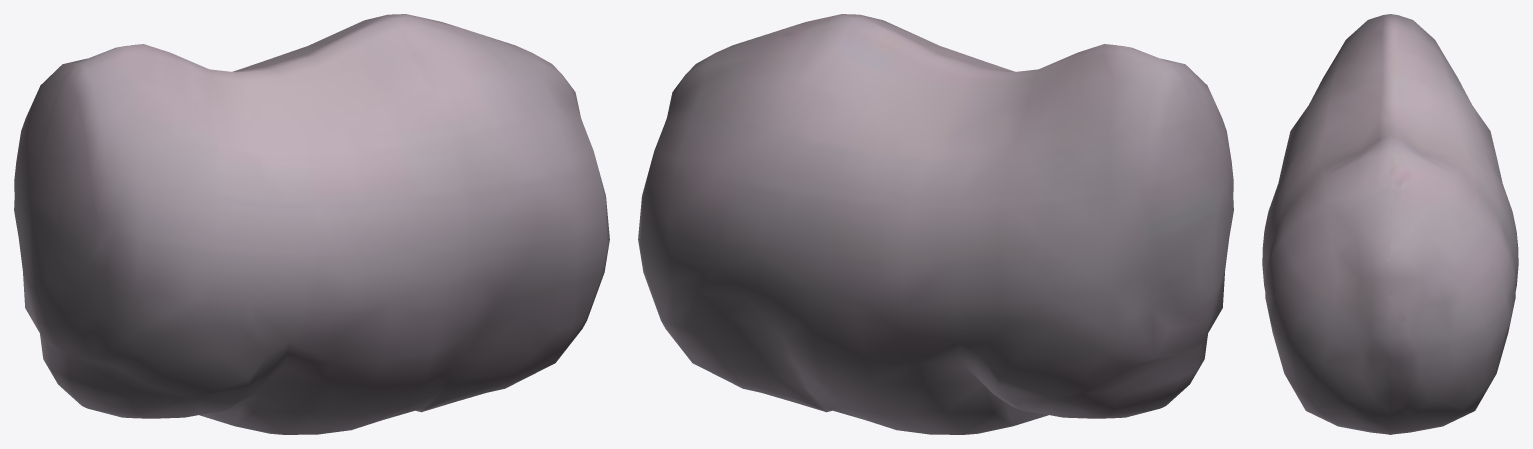
The model's file is Elephant_Body_0.FBX.
3 renders of one model, left to right at view 1: azimuth 30°, elevation 25°; view 2: azimuth 150°, elevation 25°; view 3: azimuth 270°, elevation 25°, orthographic. The views are drawn at different scales.
Parts seen in each view (by area): view 1: Elephant_Body_0; view 2: Elephant_Body_0; view 3: Elephant_Body_0.
Part boxes in pixels (x1,y1,x2,y2): Elephant_Body_0: [14, 14, 609, 434]; Elephant_Body_0: [638, 14, 1233, 434]; Elephant_Body_0: [1262, 14, 1518, 434].
Size of the model in its own units: 3.45 by 2.49 by 1.93.
